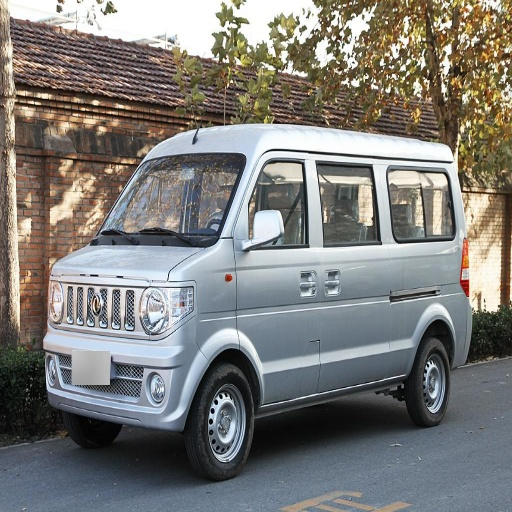back_left_door: (311, 158, 420, 389)
front_bumper: (43, 280, 206, 428)
front_glass: (96, 153, 246, 243)
front_left_door: (232, 152, 323, 402)
trunk: (416, 256, 466, 349)
